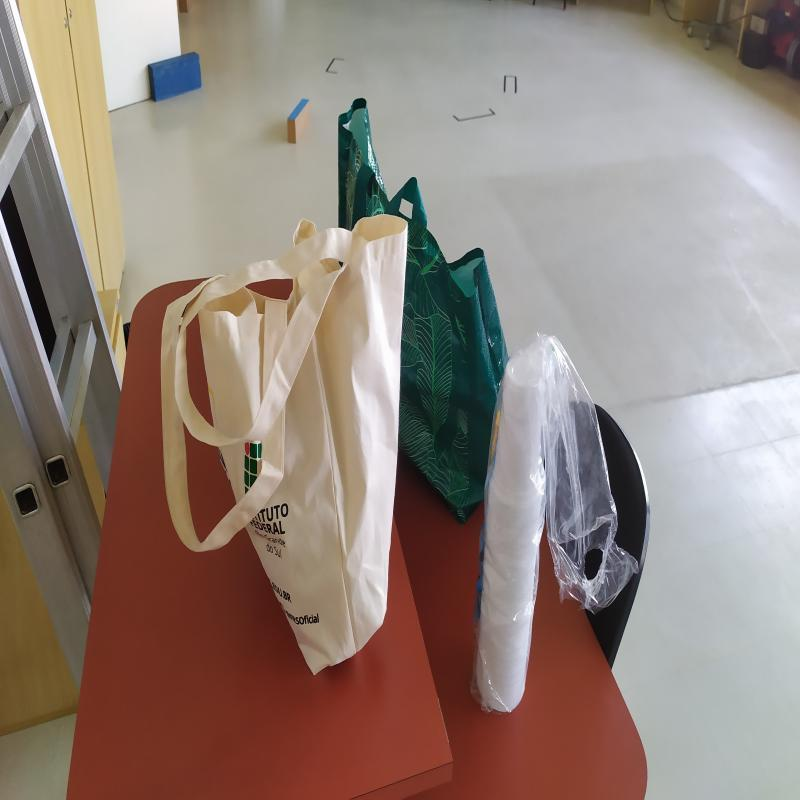Bag: (157, 215, 410, 680), (336, 94, 510, 522)
